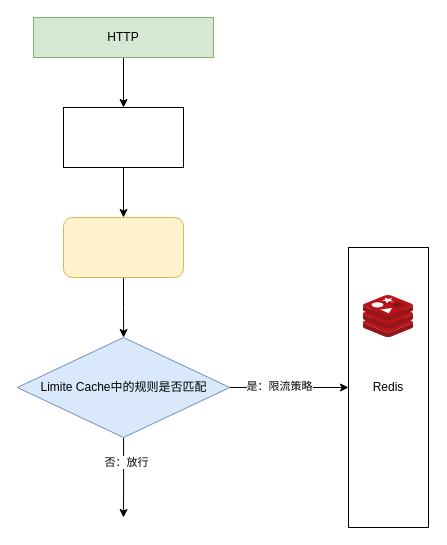
Image size: 447x545. Some labels were removed from this diagram. Here are the shapes that lost their labels. From the top down, the centre of each, then its label:
At (123,137): "Auth Plugin".
At (123,247): "RateLimiter Plugin".
